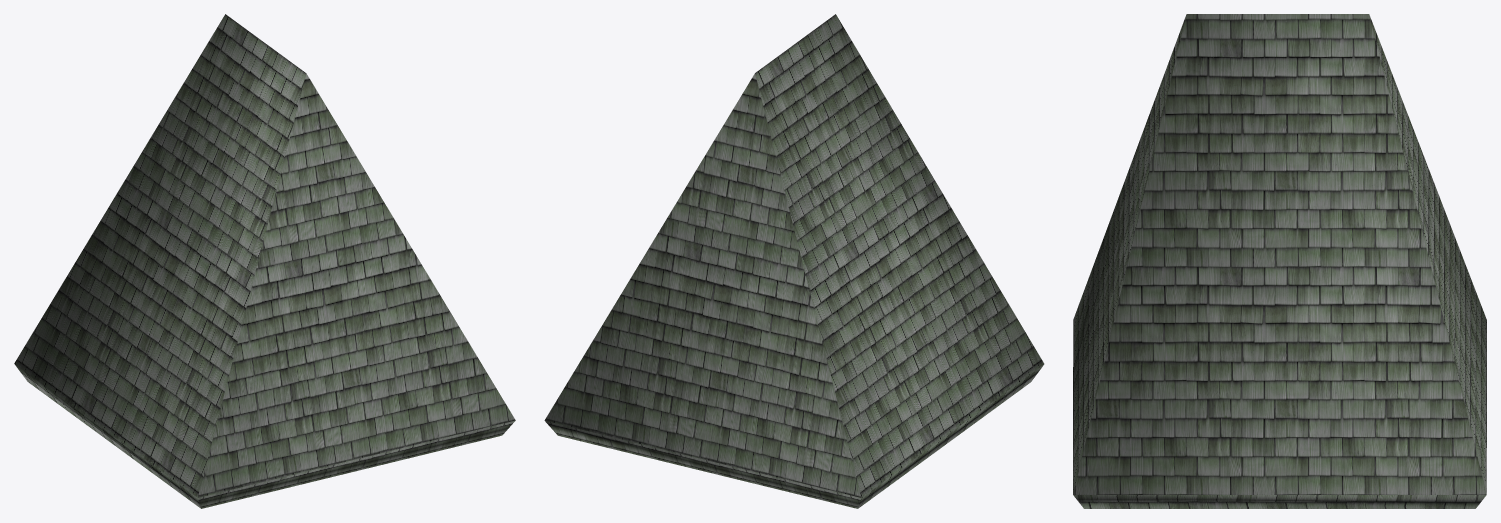
File: roof_box_tiny.glb
The picture shows the model from 3 angles, left to right: view 1: azimuth 30°, elevation 25°; view 2: azimuth 150°, elevation 25°; view 3: azimuth 270°, elevation 25°; orthographic projection. The views are drawn at different scales.
Parts seen in each view (by area): view 1: roof_box_tiny; view 2: roof_box_tiny; view 3: roof_box_tiny.
Part boxes in pixels (x1,y1,x2,y2): roof_box_tiny: [14, 14, 515, 508]; roof_box_tiny: [544, 14, 1044, 508]; roof_box_tiny: [1073, 14, 1486, 508].
Bounding box in the file's own units: 5 × 5.49 × 5.
2 materials, 2 textured.
